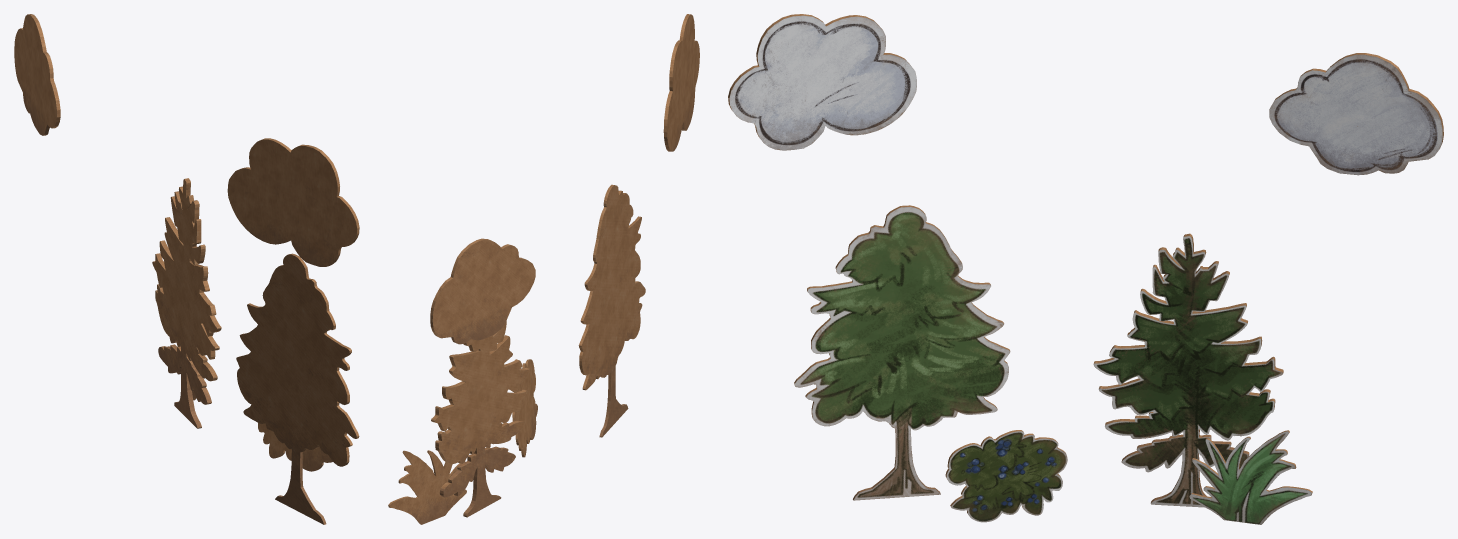
File: carton foliage.fbx
The picture shows the model from 3 angles, left to right: view 1: azimuth 30°, elevation 25°; view 2: azimuth 150°, elevation 25°; view 3: azimuth 270°, elevation 25°; orthographic projection. The views are drawn at different scales.
Parts seen in each view (by area): view 1: tree, cloud2, pine, cloud1, bush; view 2: pine, tree, cloud1, cloud2, grass, bush; view 3: tree, pine, cloud2, cloud1, bush, grass.
Boxes of the visible parts, <box> form: tree: <box>236,253,359,524</box>; cloud2: <box>227,138,359,266</box>; pine: <box>152,178,221,428</box>; cloud1: <box>14,14,60,135</box>; bush: <box>258,423,332,471</box>; pine: <box>431,321,529,517</box>; tree: <box>578,184,645,437</box>; cloud1: <box>430,238,535,344</box>; cloud2: <box>663,14,699,151</box>; grass: <box>388,450,466,524</box>; bush: <box>512,359,537,457</box>; tree: <box>794,205,1010,500</box>; pine: <box>1093,233,1283,507</box>; cloud2: <box>728,14,916,150</box>; cloud1: <box>1269,53,1443,175</box>; bush: <box>945,430,1067,522</box>; grass: <box>1189,430,1312,524</box>.
Size of the model in its own units: 461 by 1239 by 1725.
6 materials, 6 textured.
